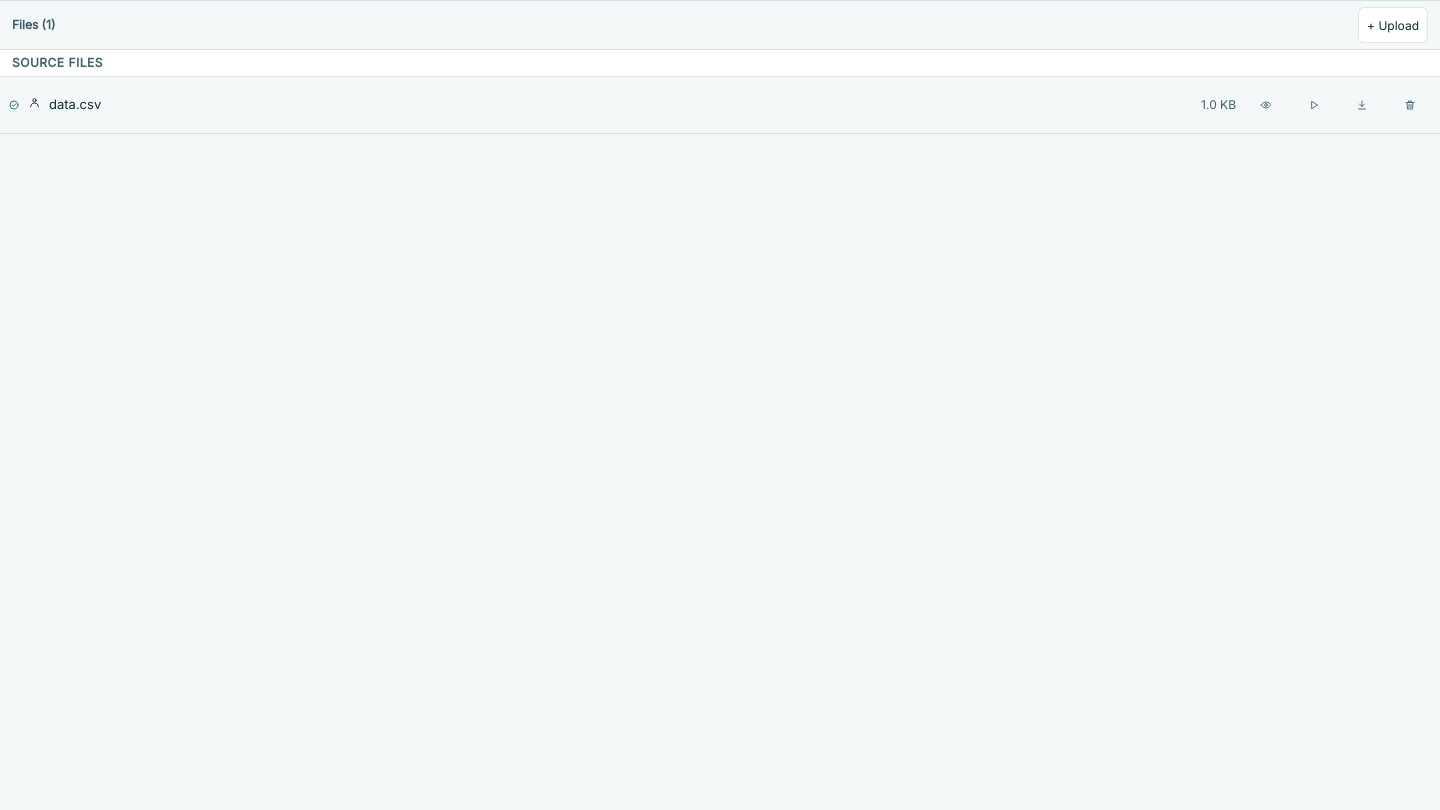
Scenario: BlobManager delete confirmation (WCAG 3.3.4) › leaves the file intact when the dialog is cancelled
Step 1. Click the button named "Delete data.csv" → (1410, 105), box [1388,83,1432,127]
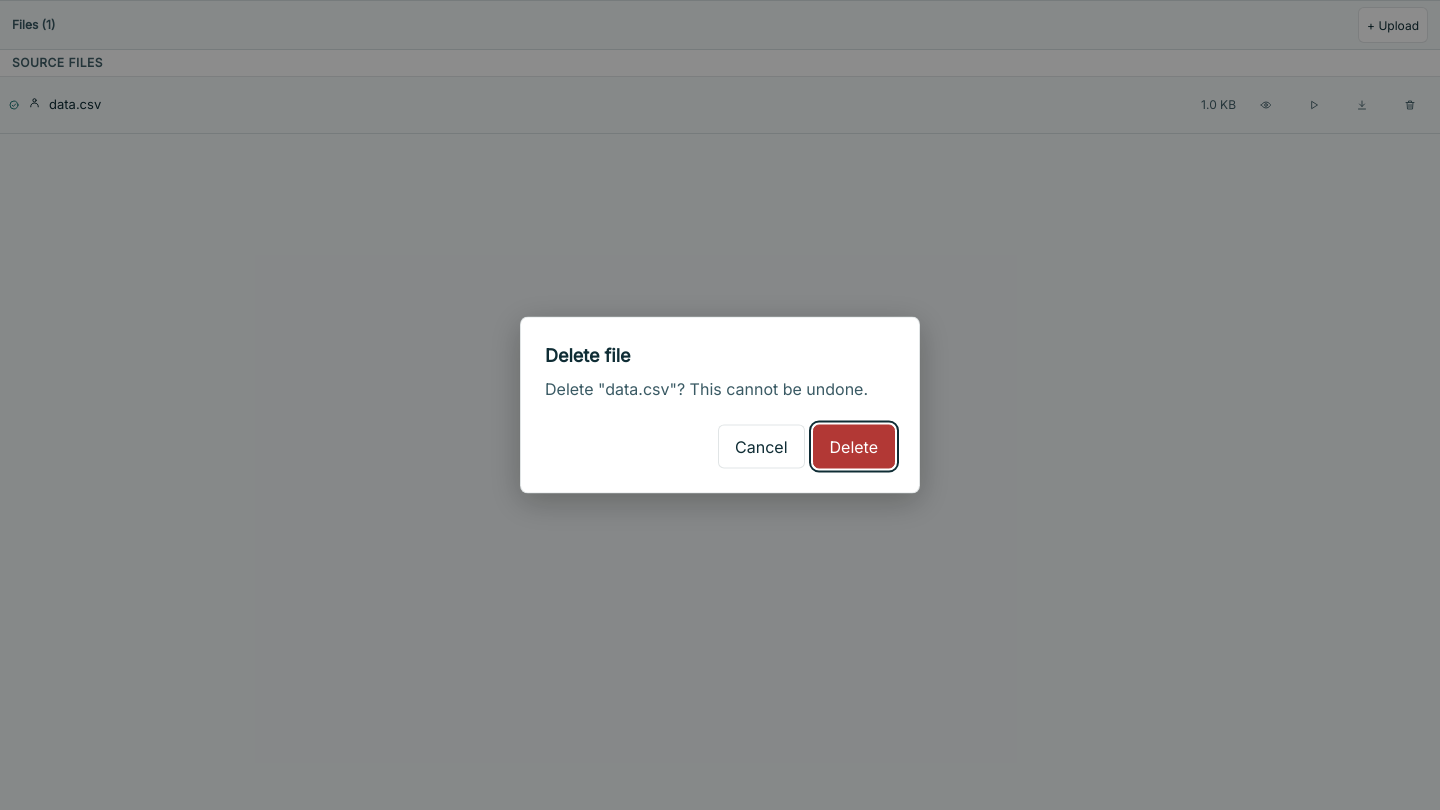
Step 2. Click the button "Cancel" → (761, 446), box [718,424,804,468]
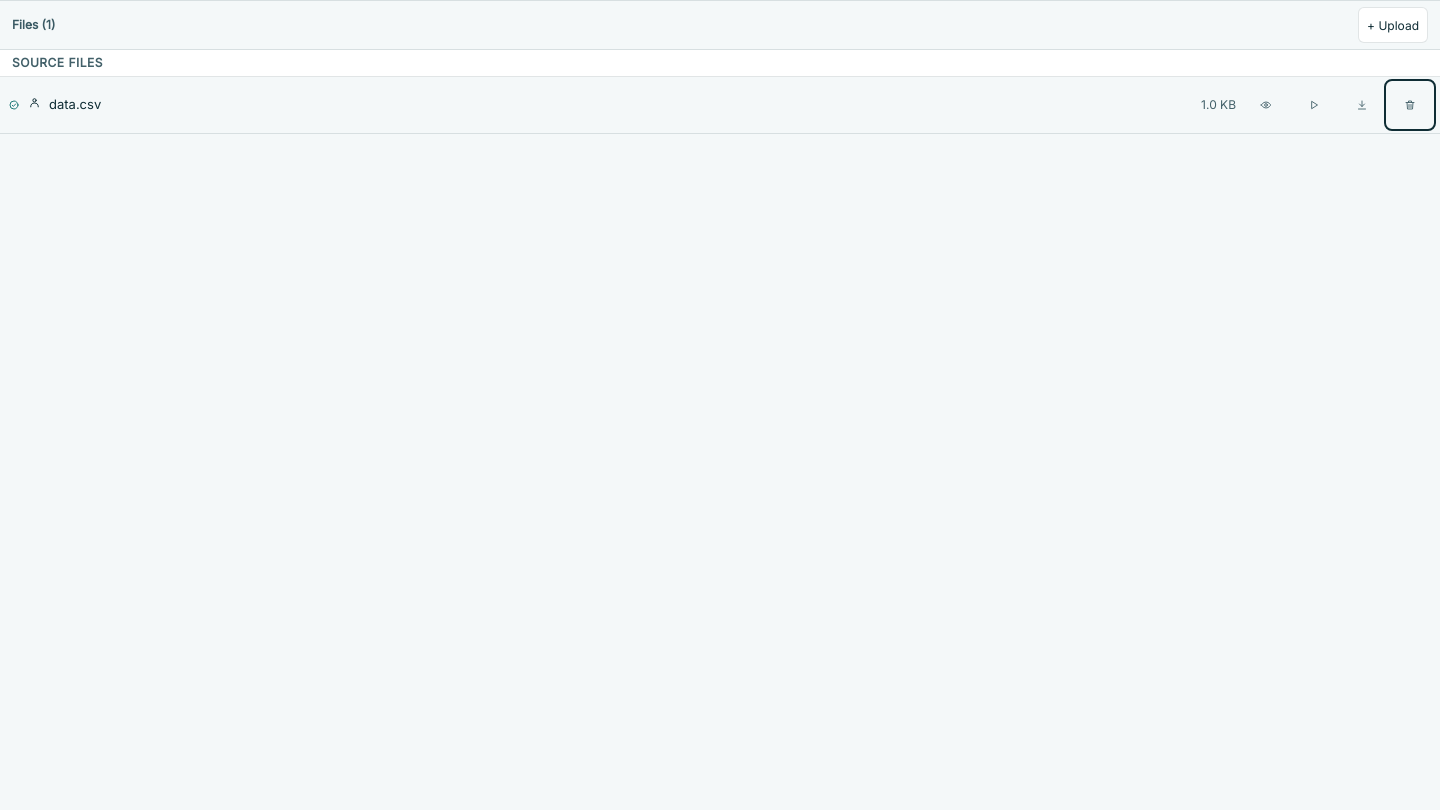
Expected: the dialog is gone
